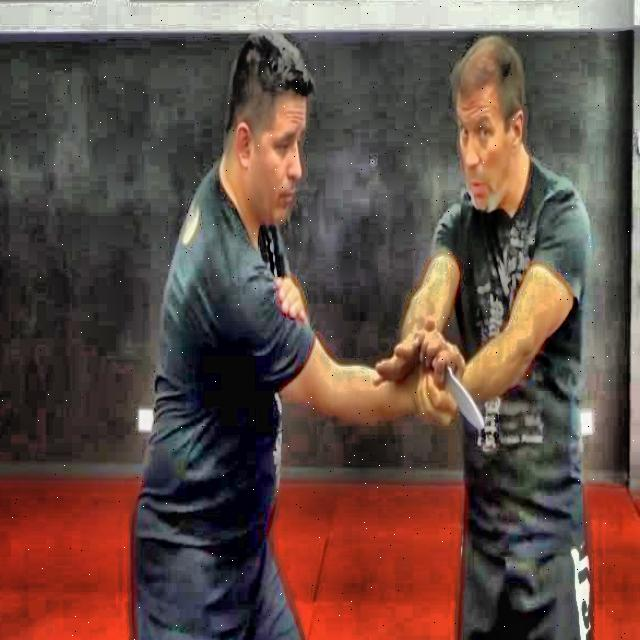knife: (444, 367, 484, 432)
